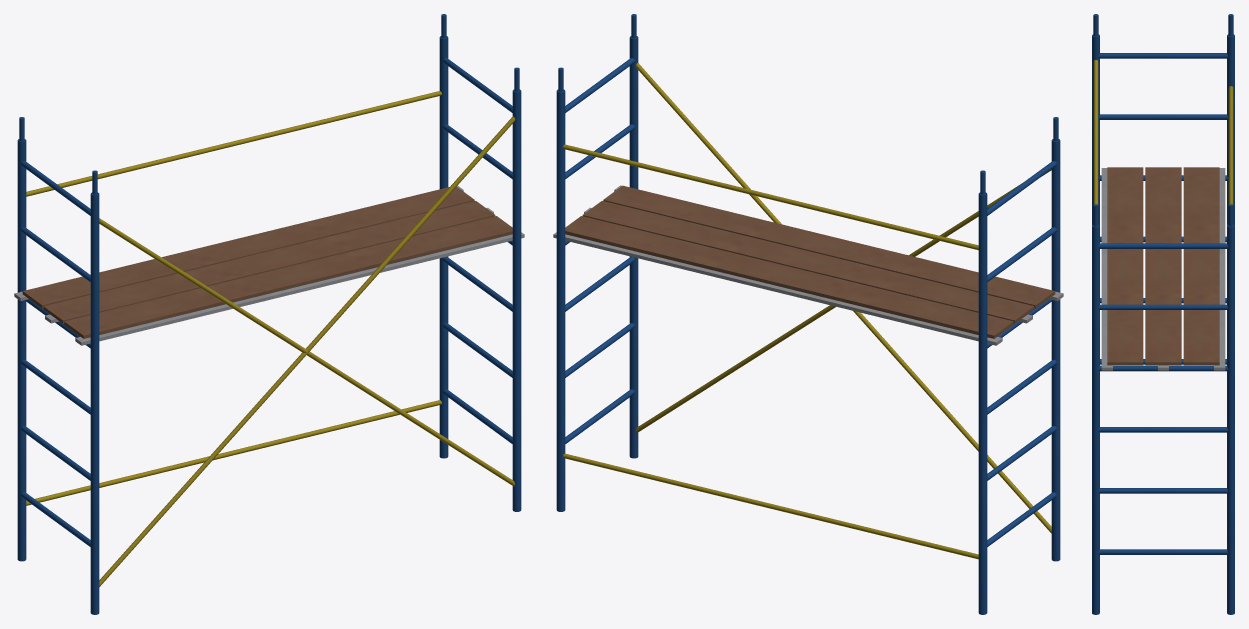
Rendered from echafaudage_metal.glb.
The picture shows the model from 3 angles, left to right: view 1: azimuth 30°, elevation 25°; view 2: azimuth 150°, elevation 25°; view 3: azimuth 270°, elevation 25°; orthographic projection. The views are drawn at different scales.
Visible parts, largest first — view 1: Metal_Scaffolding; view 2: Metal_Scaffolding; view 3: Metal_Scaffolding.
Boxes of the visible parts, left/top/right/bottom form: Metal_Scaffolding: left=14, top=14, right=524, bottom=614; Metal_Scaffolding: left=553, top=14, right=1063, bottom=614; Metal_Scaffolding: left=1092, top=14, right=1234, bottom=614.
Bounding box in the file's own units: 2.1 × 2 × 0.635.
Materials: 2 (2 with a texture image).
